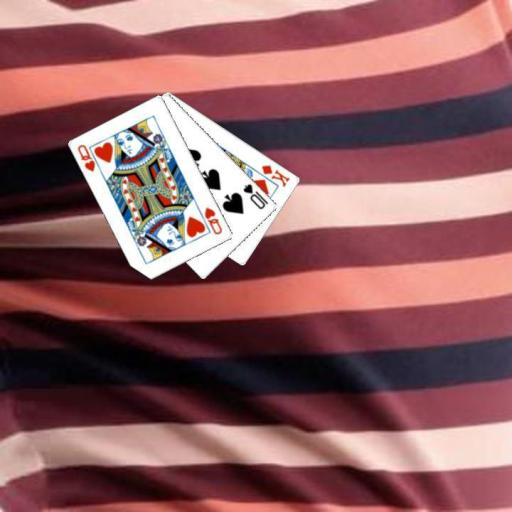card-corner: (74, 142, 104, 174), (240, 180, 270, 210), (259, 162, 291, 188), (201, 204, 224, 236)
